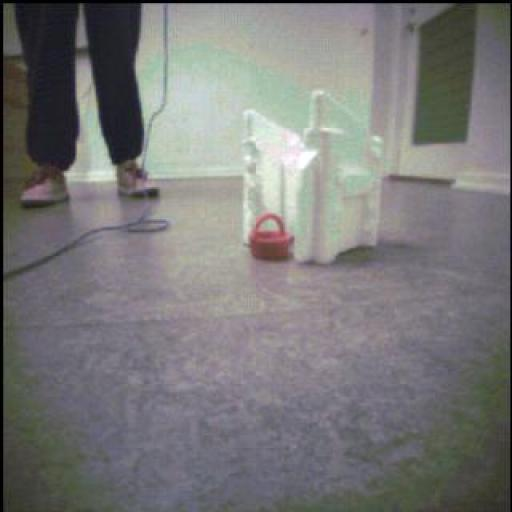Bucket: (248, 211, 295, 262)
